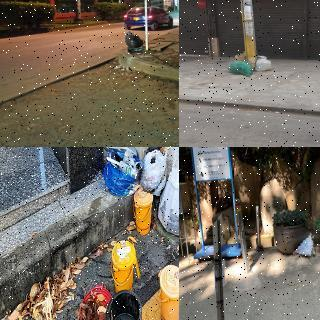Garbage: (101, 147, 144, 198), (137, 147, 174, 195), (295, 228, 319, 259), (227, 59, 255, 76), (124, 31, 146, 48), (255, 59, 272, 72), (234, 52, 246, 63)
